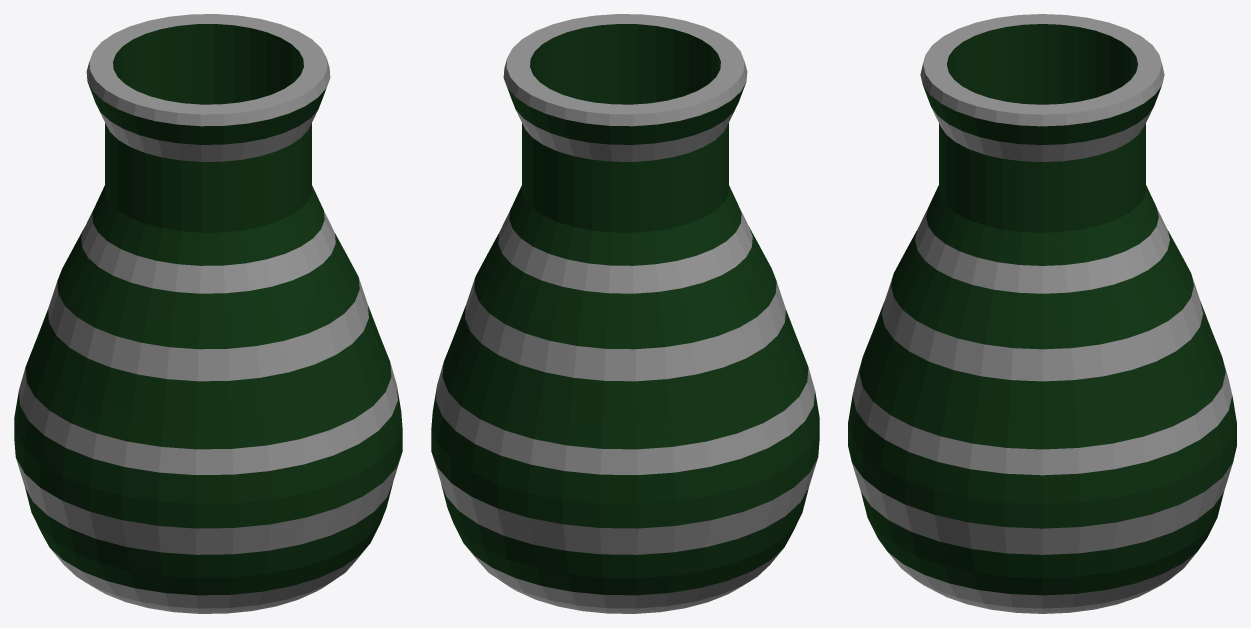
The model's file is VaseColored3fbx.fbx.
The picture shows the model from 3 angles, left to right: view 1: azimuth 30°, elevation 25°; view 2: azimuth 150°, elevation 25°; view 3: azimuth 270°, elevation 25°; orthographic projection.
Visible parts, largest first — view 1: Circle; view 2: Circle; view 3: Circle.
Boxes of the visible parts, <box> form: Circle: <box>14,14,402,613</box>; Circle: <box>431,14,819,613</box>; Circle: <box>848,14,1236,613</box>.
Size of the model in its own units: 286 by 400 by 286.
